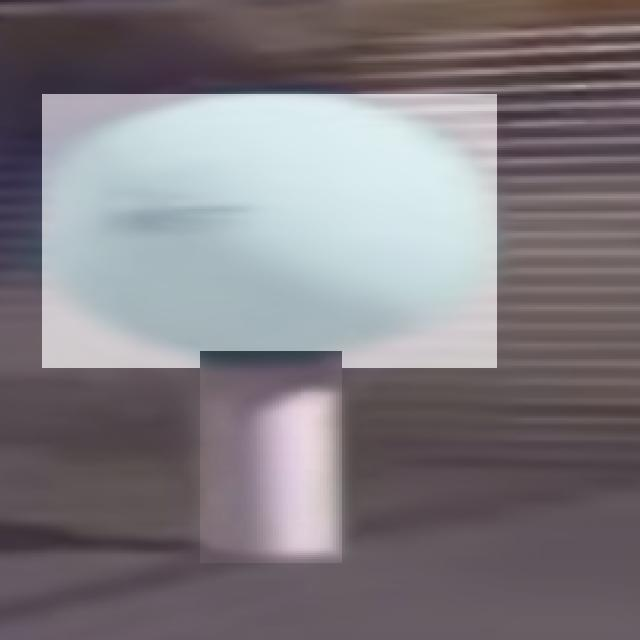Algae: (42, 94, 497, 368)
Coral: (200, 351, 342, 563)
